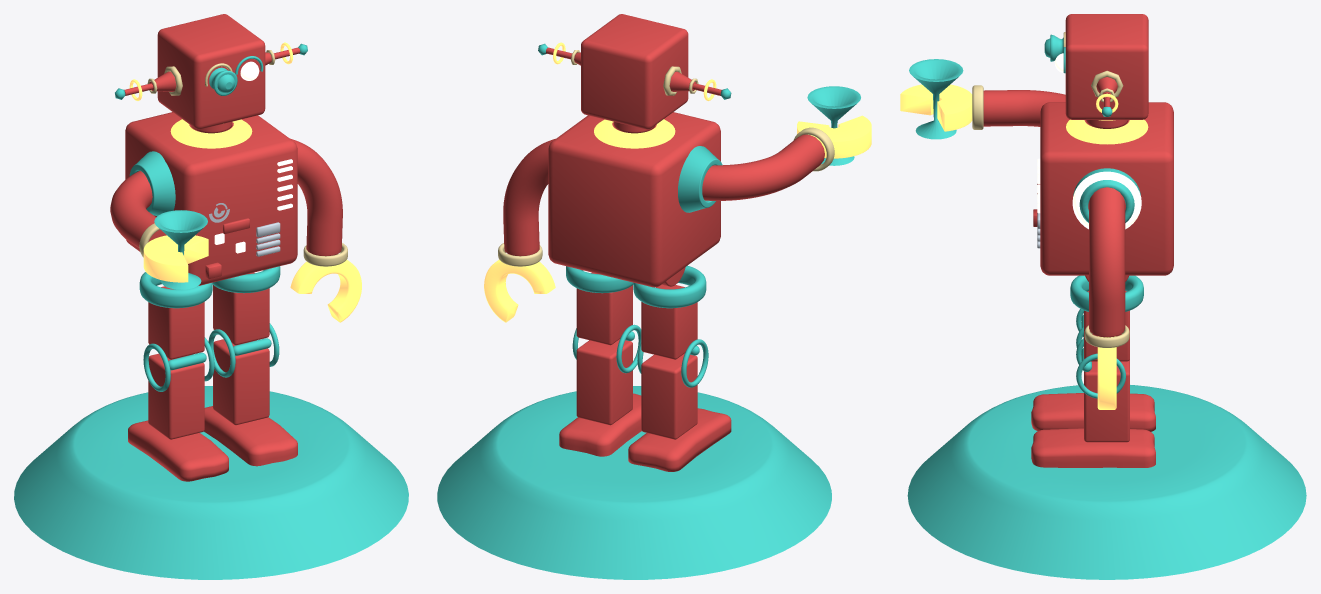
The picture shows the model from 3 angles, left to right: view 1: azimuth 30°, elevation 25°; view 2: azimuth 150°, elevation 25°; view 3: azimuth 270°, elevation 25°; orthographic projection.
Visible parts, largest first — view 1: Stand, Body, Head, Shin, Shin_2, Arm, Foot_2, Foot, Leg, Leg_2, Arm_2, Hand_2 (+11 smaller); view 2: Stand, Body, Head, Arm_2, Shin_2, Shin, Arm, Foot_2, Leg_2, Leg, Foot, Hand (+10 smaller); view 3: Stand, Body, Head, Arm, Foot, Foot_2, Shin, Arm_2, Hand_2, Lathe, Neckbase, Hand (+7 smaller).
Boxes of the visible parts, bbox=[...] form: Stand: bbox=[14, 386, 408, 579]; Body: bbox=[125, 112, 297, 285]; Head: bbox=[157, 14, 265, 129]; Shin: bbox=[213, 339, 269, 425]; Shin_2: bbox=[148, 353, 204, 439]; Arm: bbox=[290, 138, 342, 256]; Foot_2: bbox=[128, 420, 228, 481]; Foot: bbox=[204, 406, 297, 466]; Leg: bbox=[213, 272, 269, 345]; Leg_2: bbox=[148, 286, 204, 359]; Arm_2: bbox=[110, 171, 166, 248]; Hand_2: bbox=[143, 235, 208, 282]; Stand: bbox=[437, 386, 831, 579]; Body: bbox=[548, 112, 720, 287]; Head: bbox=[581, 14, 688, 129]; Arm_2: bbox=[702, 134, 824, 200]; Shin_2: bbox=[641, 353, 697, 439]; Shin: bbox=[576, 339, 632, 425]; Arm: bbox=[503, 138, 555, 256]; Foot_2: bbox=[628, 408, 731, 471]; Leg_2: bbox=[641, 284, 697, 359]; Leg: bbox=[576, 272, 632, 345]; Foot: bbox=[559, 393, 641, 456]; Hand: bbox=[484, 259, 555, 322]; Stand: bbox=[907, 385, 1306, 579]; Body: bbox=[1040, 102, 1173, 275]; Head: bbox=[1065, 14, 1148, 119]; Arm: bbox=[1089, 187, 1125, 337]; Foot: bbox=[1031, 428, 1155, 467]; Foot_2: bbox=[1031, 393, 1155, 431]; Shin: bbox=[1084, 360, 1129, 442]; Arm_2: bbox=[983, 90, 1065, 126]; Hand_2: bbox=[900, 84, 972, 131]; Lathe: bbox=[909, 59, 963, 139]; Neckbase: bbox=[1066, 119, 1148, 144]; Hand: bbox=[1097, 336, 1116, 409].
Size of the model in its own units: 5.08 by 6.55 by 5.17.
